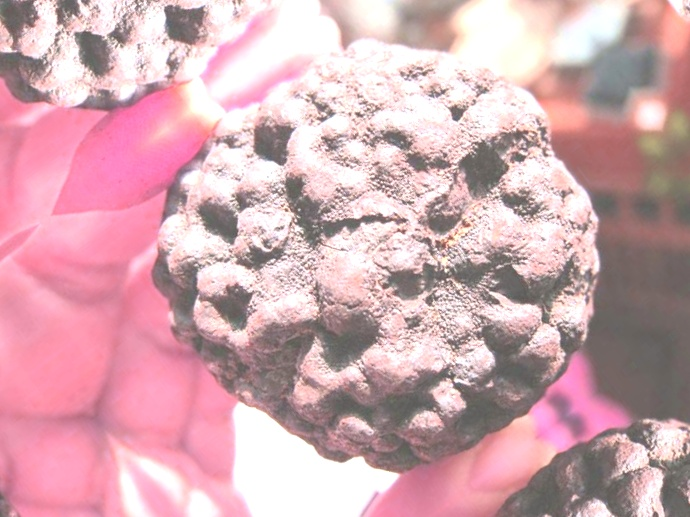halobolite: (89, 0, 686, 517)
